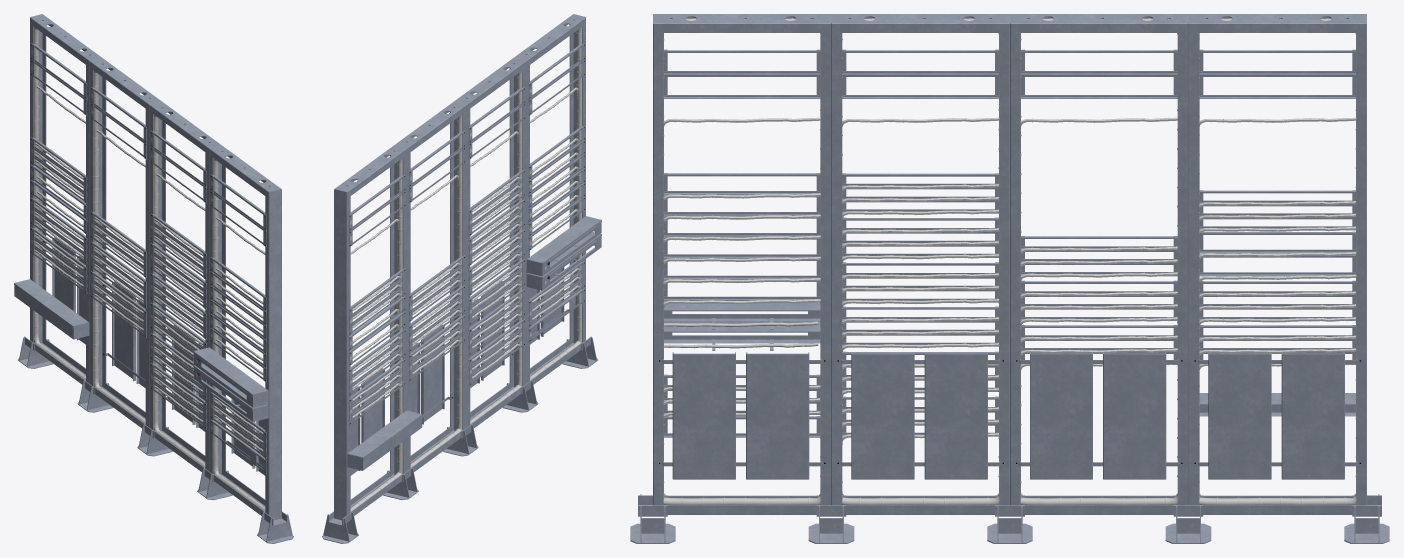
The model's file is SM_Dask_2.FBX.
3 views of the same model, side by side, from view 1: azimuth 30°, elevation 25°; view 2: azimuth 150°, elevation 25°; view 3: azimuth 270°, elevation 25° (orthographic). The views are drawn at different scales.
Visible parts, largest first — view 1: SM_Dask_2; view 2: SM_Dask_2; view 3: SM_Dask_2.
Boxes of the visible parts, x1,y1,x2,y2 form: SM_Dask_2: (14, 14, 293, 543); SM_Dask_2: (322, 14, 601, 543); SM_Dask_2: (630, 14, 1389, 543).
Bounding box in the file's own units: 27.66 × 250 × 334.
